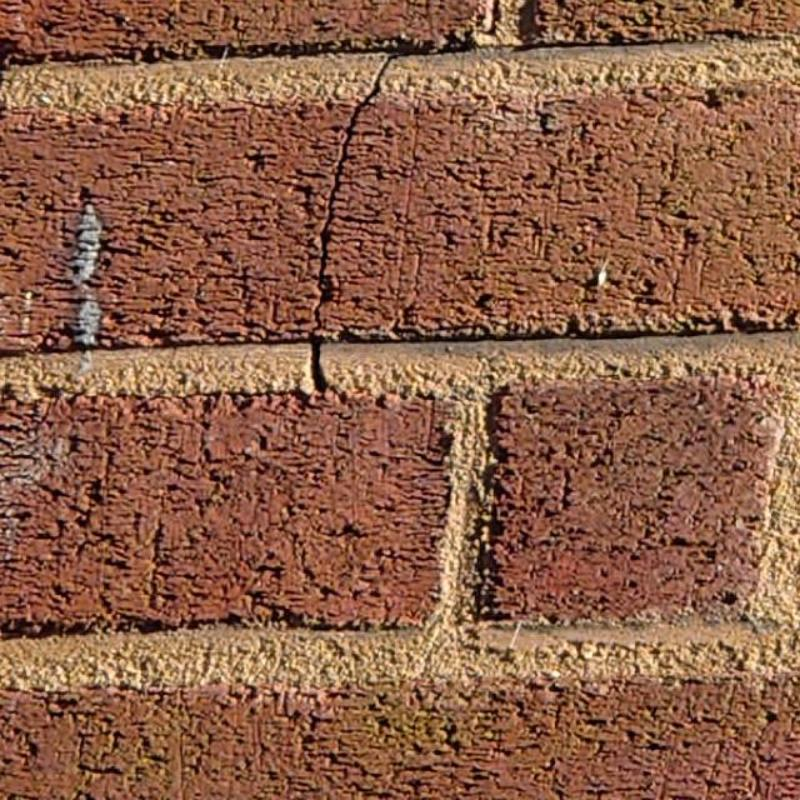crack: (308, 55, 399, 396)
